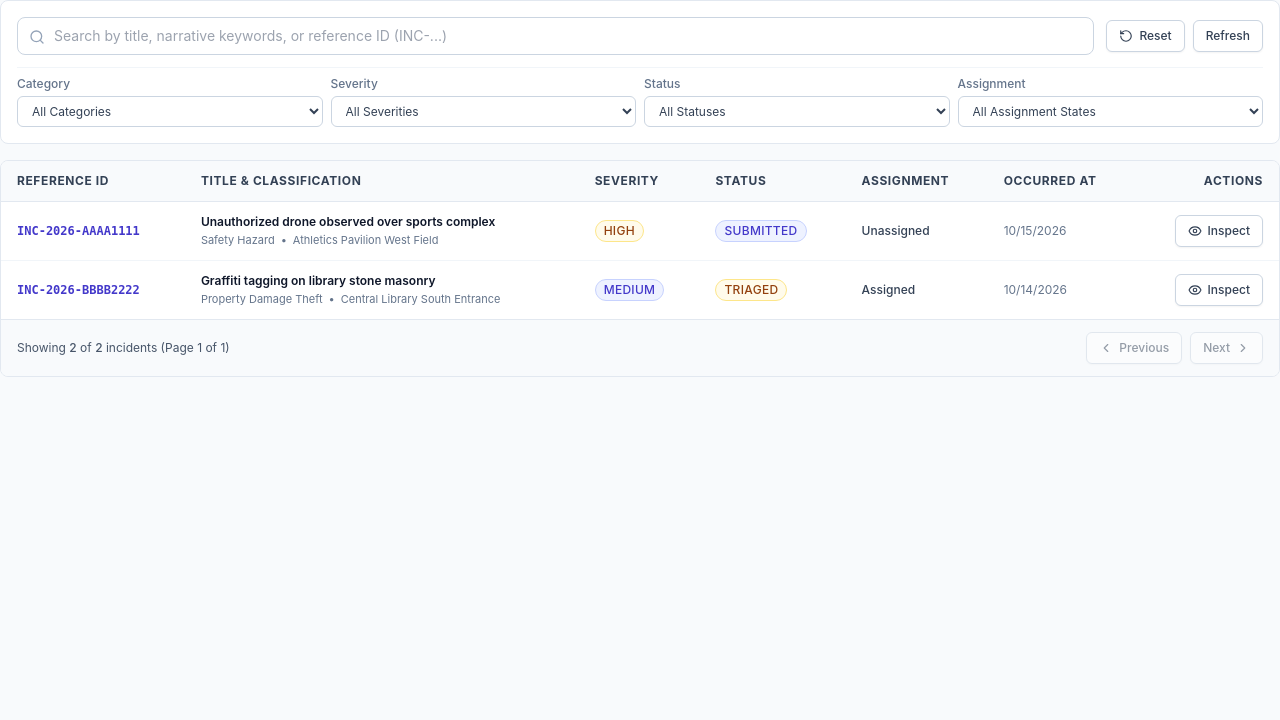
Test: Review Queue Components › ReviewQueueTable › renders queue table rows and opens inspect modal with incident details
Check: the text "INC-2026-AAAA1111" is shown, box left=1, top=202, right=185, bottom=260
Check: the text "INC-2026-BBBB2222" is shown, box left=1, top=260, right=185, bottom=319
// Click Inspect on the first row
Click the button "Inspect" in the row of "INC-2026-AAAA1111".
click(1219, 231)  # box left=1175, top=215, right=1263, bottom=247
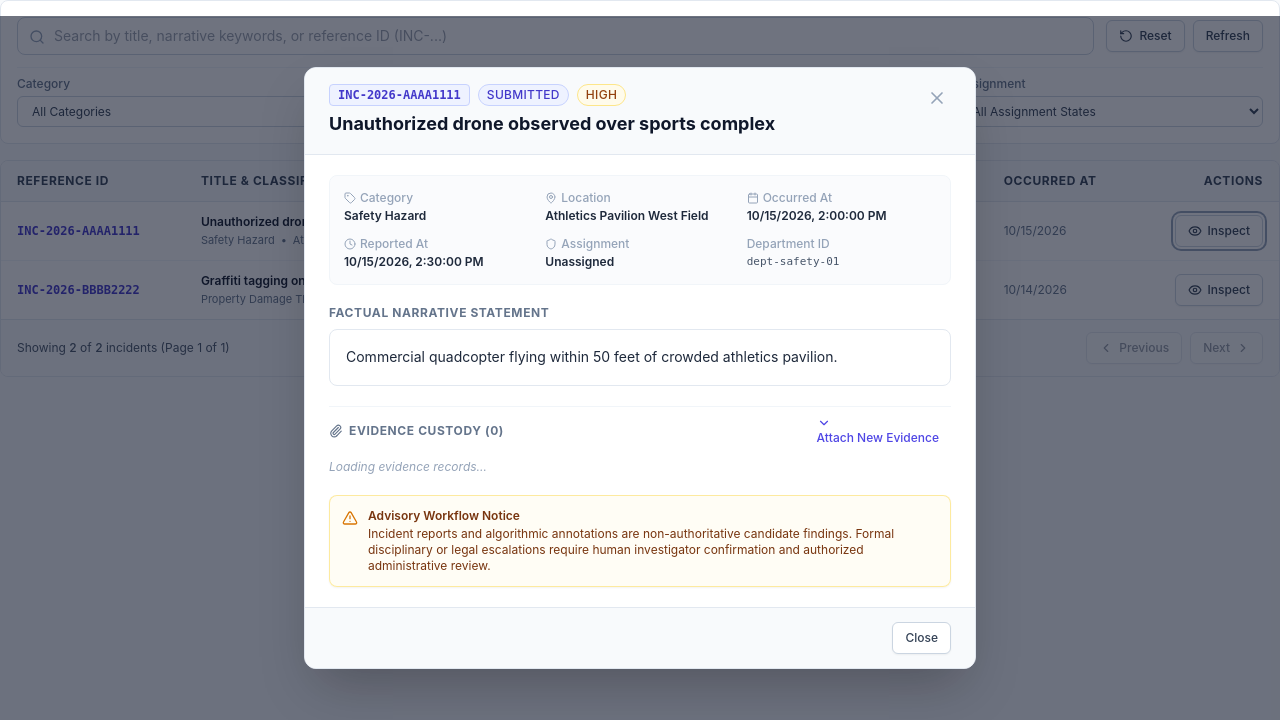
Check: the dialog is shown
Check: the text "Commercial quadcopter flying within 50 feet of crowded athletics pavilion." is shown, box left=329, top=329, right=951, bottom=386
Check: the text "Athletics Pavilion West Field" is shown, box left=545, top=208, right=735, bottom=224
// Close modal
Click the button named "Close dialog".
click(937, 98)  # box left=923, top=84, right=951, bottom=112
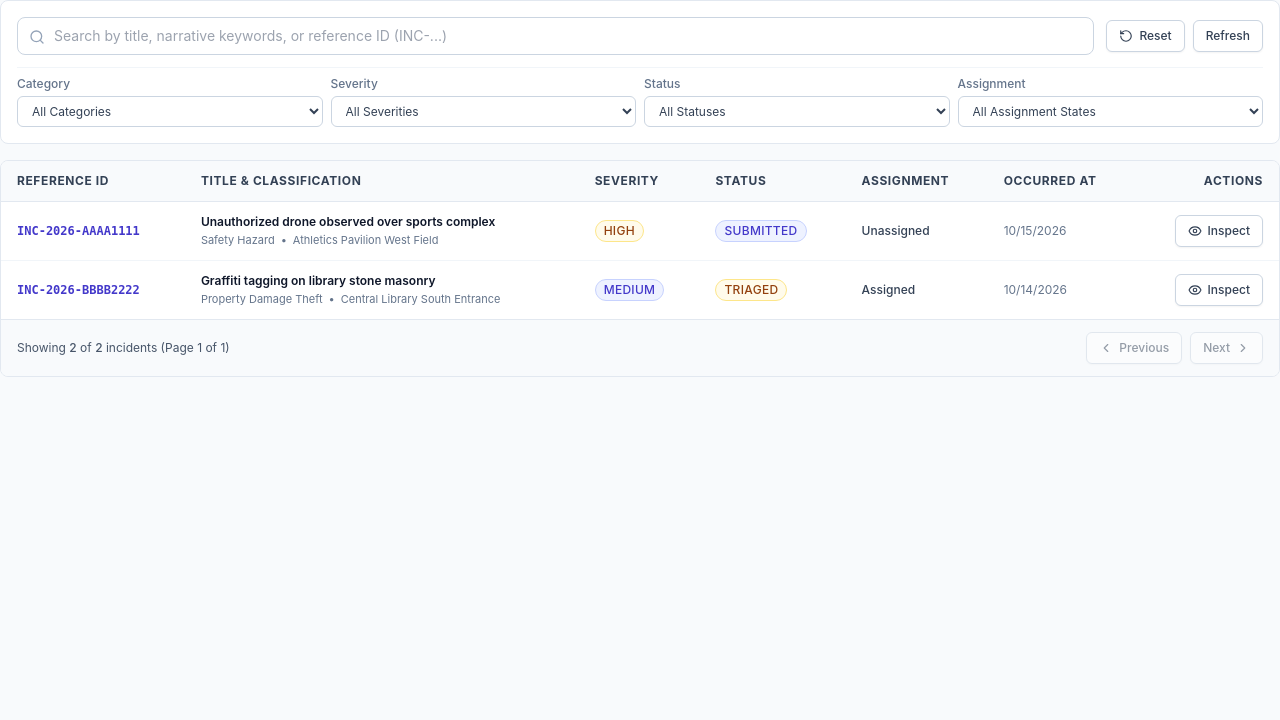
Check: the dialog is gone
